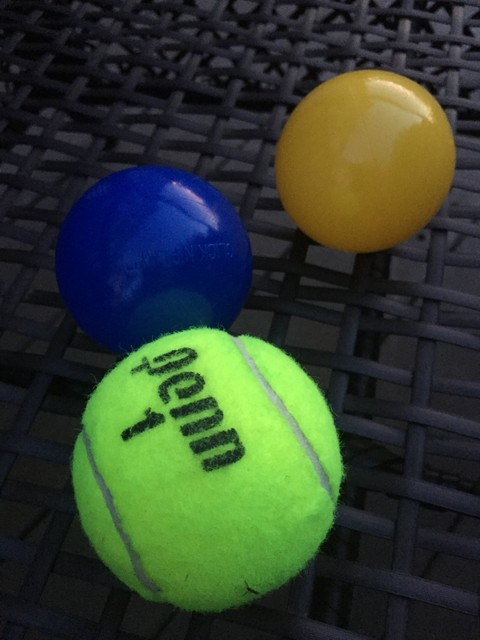Ball: (56, 164, 254, 348)
